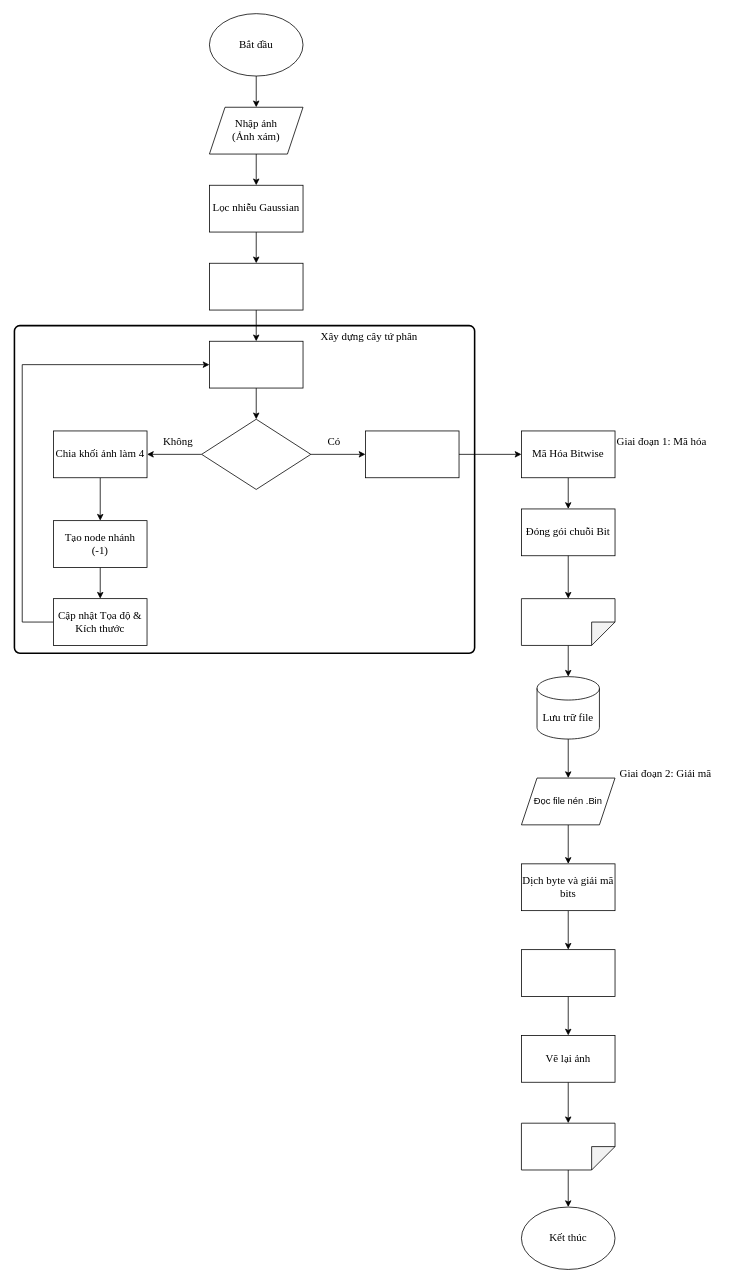
This 729x1283 diagram has some shape labels left out. Here are the shapes that lost their labels. From the top down, the box of each, then its label:
(209, 262, 303, 310): Trích xuất biên bằng Canny
(209, 340, 303, 388): Phân rã Mã tứ phân (Khối ảnh)
(201, 418, 311, 489): Khối đồng nhất (Trắng hoặc Đen)
(365, 430, 459, 478): Tạo node lá (Màu)
(521, 598, 615, 645): Xuất file .Bin
(521, 949, 615, 996): Khôi phục cấu trúc cây tứ phân
(521, 1122, 615, 1170): Ảnh khôi phục
